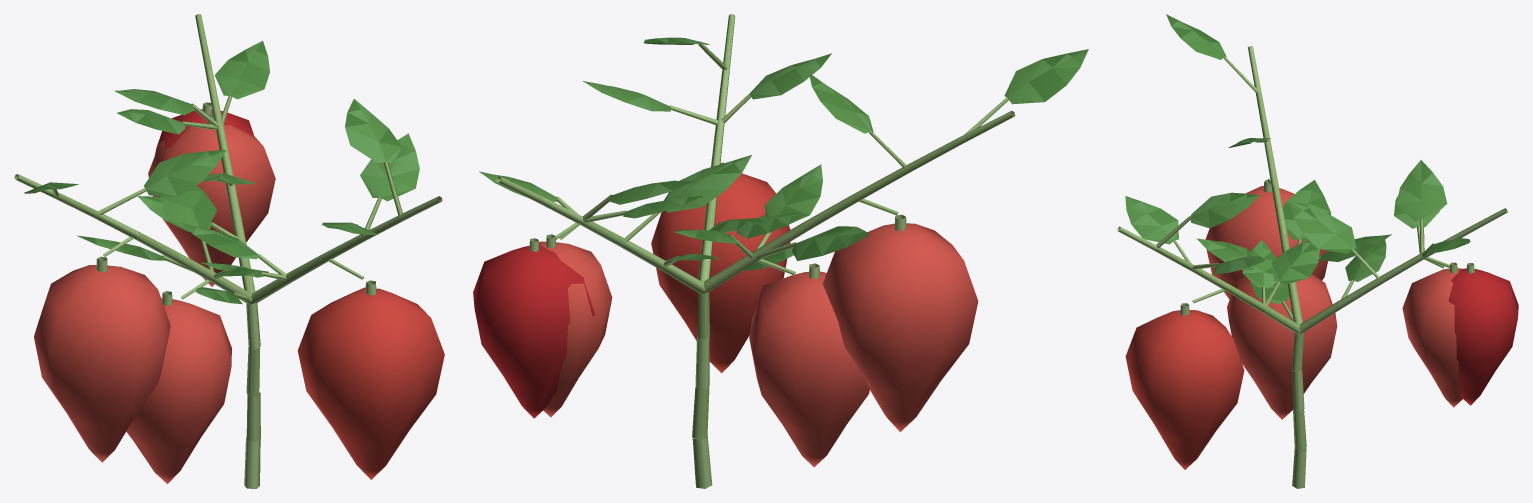
File: poivron_rouge_mur.glb
3 views of the same model, side by side, from view 1: azimuth 30°, elevation 25°; view 2: azimuth 150°, elevation 25°; view 3: azimuth 270°, elevation 25° (orthographic). The views are drawn at different scales.
Parts seen in each view (by area): view 1: Poivron_Fruits, Poivron_Feuilles, Poivron_Tiges, Poivron_Calices; view 2: Poivron_Fruits, Poivron_Feuilles, Poivron_Tiges; view 3: Poivron_Fruits, Poivron_Feuilles, Poivron_Tiges.
Part boxes in pixels (x1,y1,x2,y2): Poivron_Fruits: [34, 109, 444, 483]; Poivron_Feuilles: [24, 40, 419, 304]; Poivron_Tiges: [14, 14, 442, 488]; Poivron_Calices: [96, 102, 376, 305]; Poivron_Fruits: [473, 173, 978, 467]; Poivron_Feuilles: [479, 37, 1088, 270]; Poivron_Tiges: [496, 14, 1015, 488]; Poivron_Fruits: [1125, 186, 1518, 469]; Poivron_Feuilles: [1125, 14, 1470, 304]; Poivron_Tiges: [1117, 46, 1507, 488].
Size of the model in its own units: 0.5886 by 0.5657 by 0.5786.
